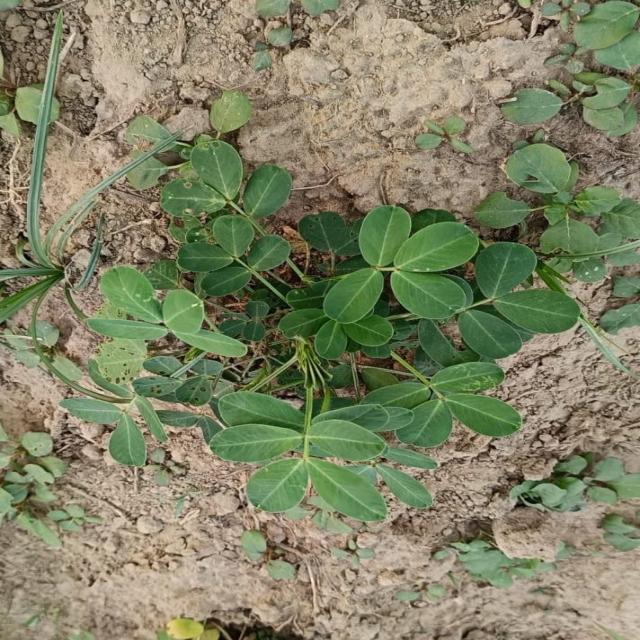plant: (0, 91, 640, 530)
